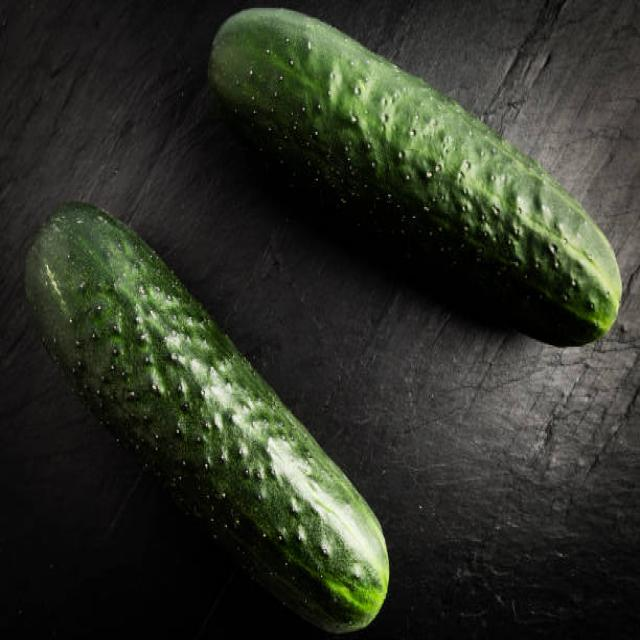cucumber: (23, 203, 389, 633), (210, 7, 622, 346)
